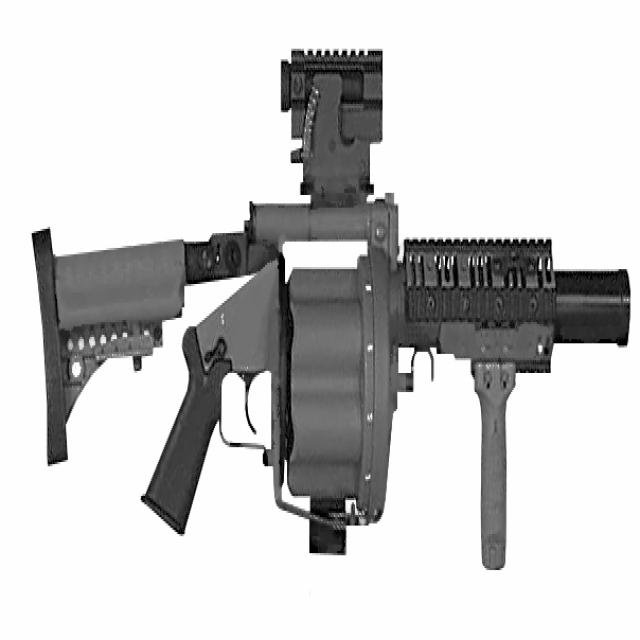Weapon: (34, 51, 629, 568)
